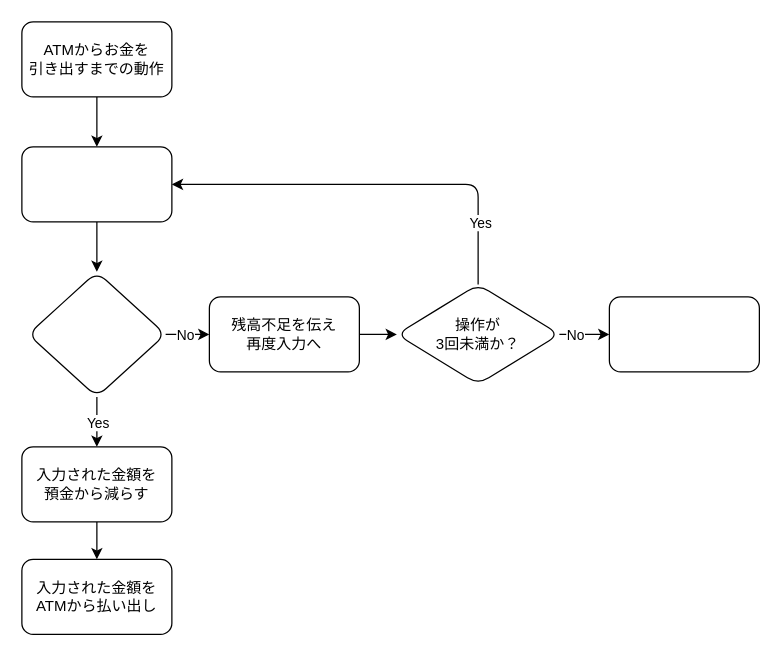
Some shapes in this 781 by 656 pixel diagram are drawn without their labels. The shapes that lost their labels are listed below. From the top down, each one's centre as x and y in pixels, then its label:
At pixel 96 184: "引き出す金額を入力".
At pixel 96 334: "預金残高が 足りるか？".
At pixel 683 334: "残高不足を伝えて 処理を終了".
